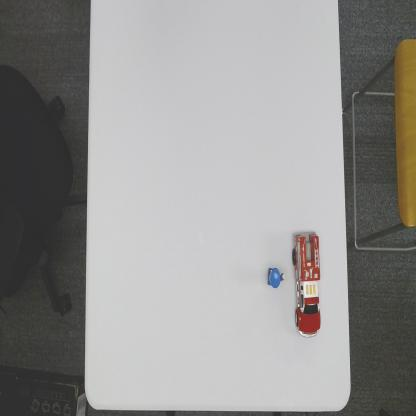Firetruck: (292, 231, 322, 340)
